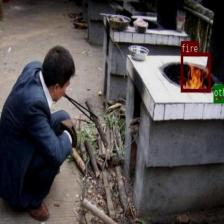fire: (181, 53, 210, 92)
